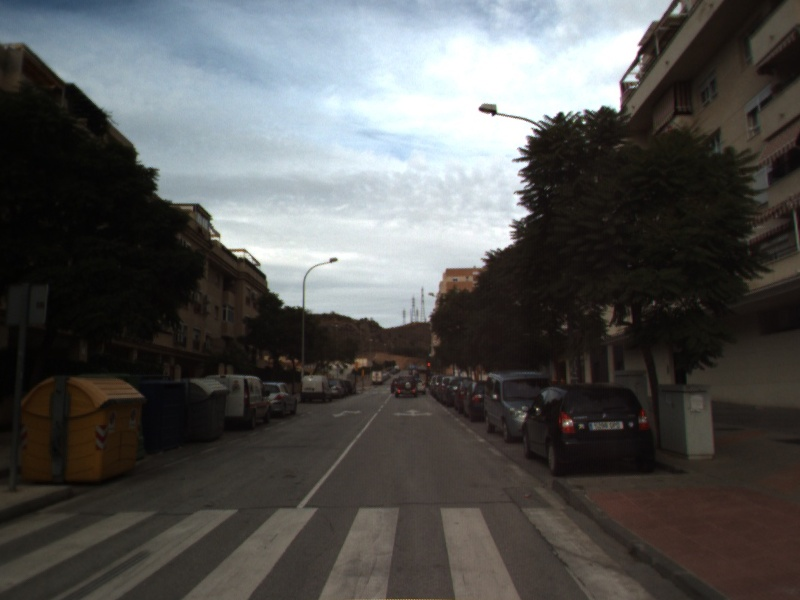STRAIGHT_LEFT_RIGHT: (392, 406, 435, 418)
